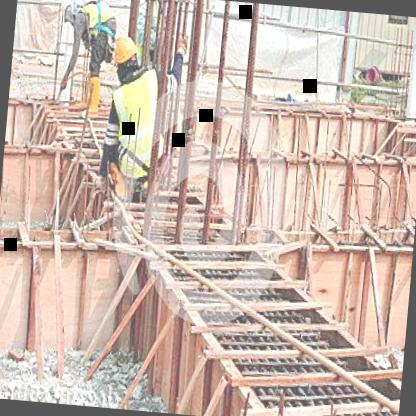helmet: (107, 31, 142, 75), (53, 0, 83, 30)
